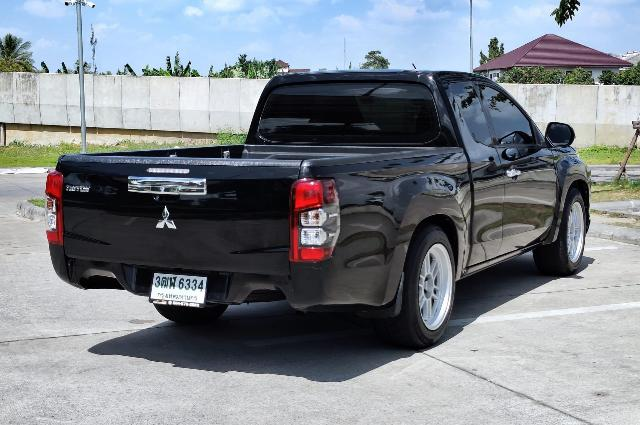pickup-truck: (38, 43, 600, 359)
